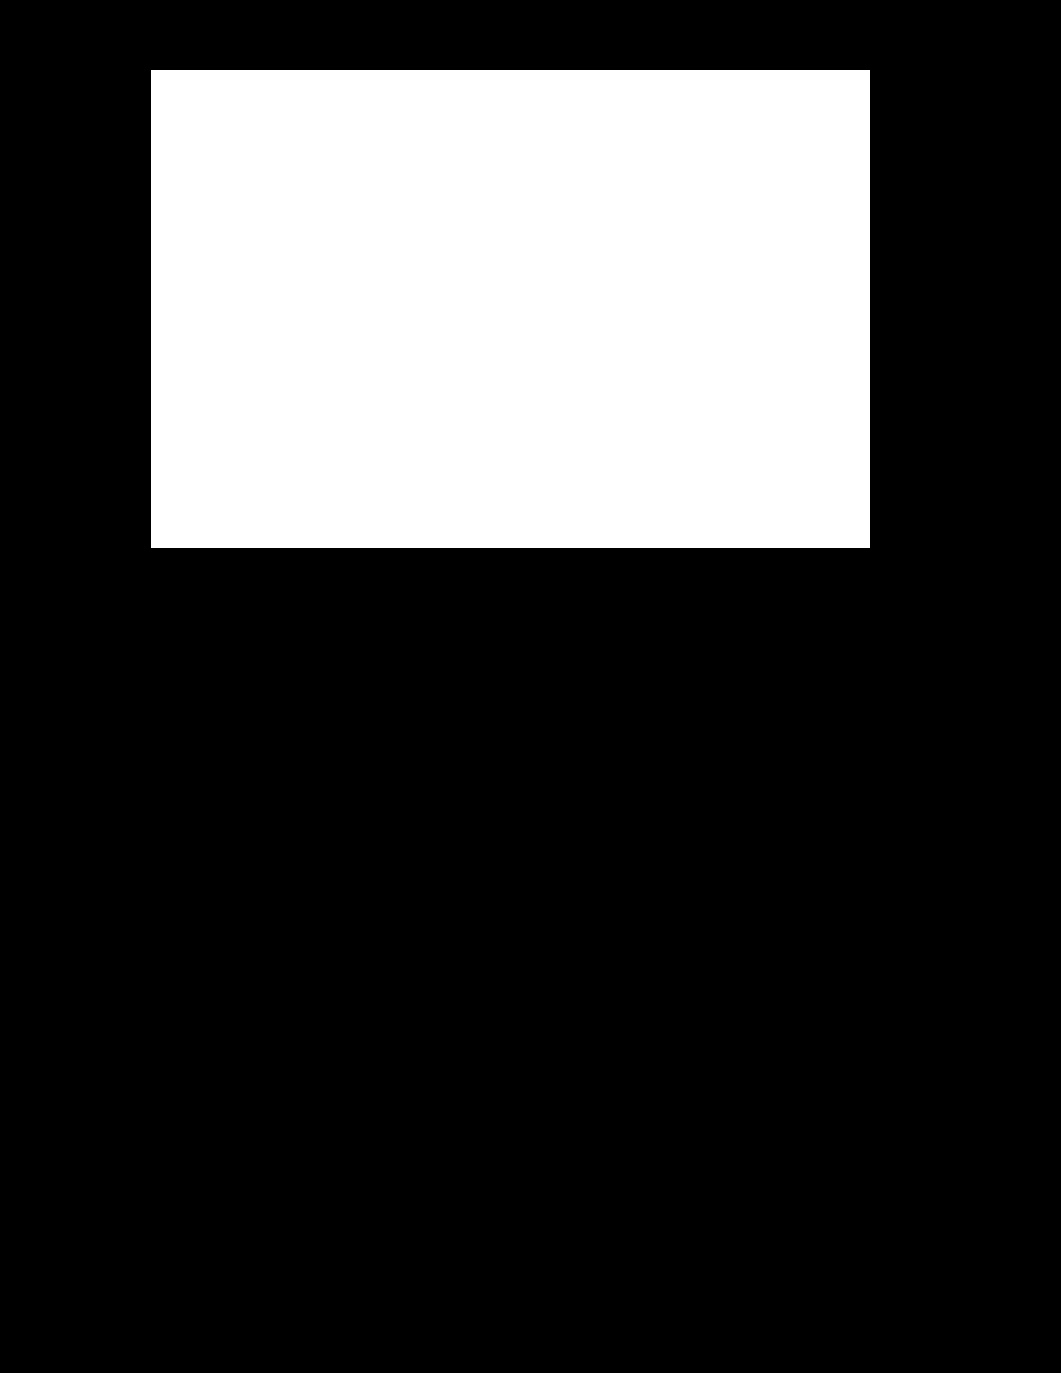table: (150, 70, 869, 547)
